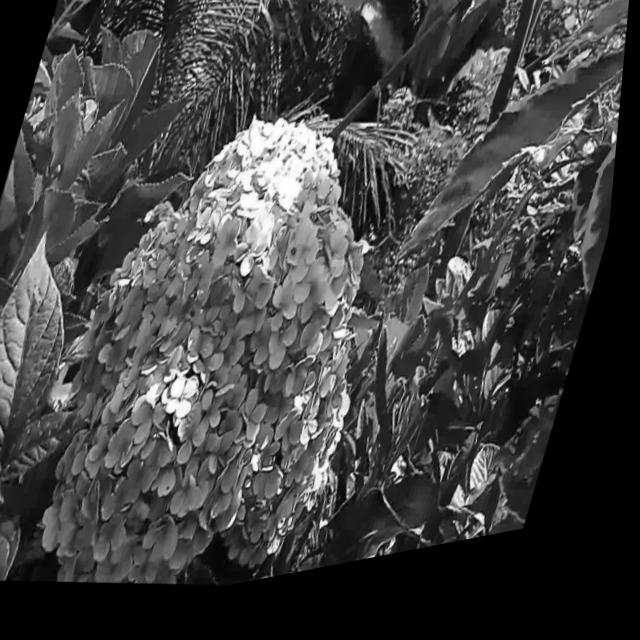Flower: (23, 77, 442, 630)
